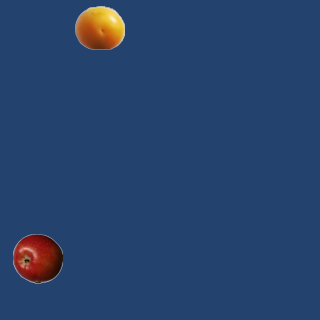Apple Braeburn: (12, 233, 62, 283)
Cherry Wax Yellow: (74, 2, 124, 52)
